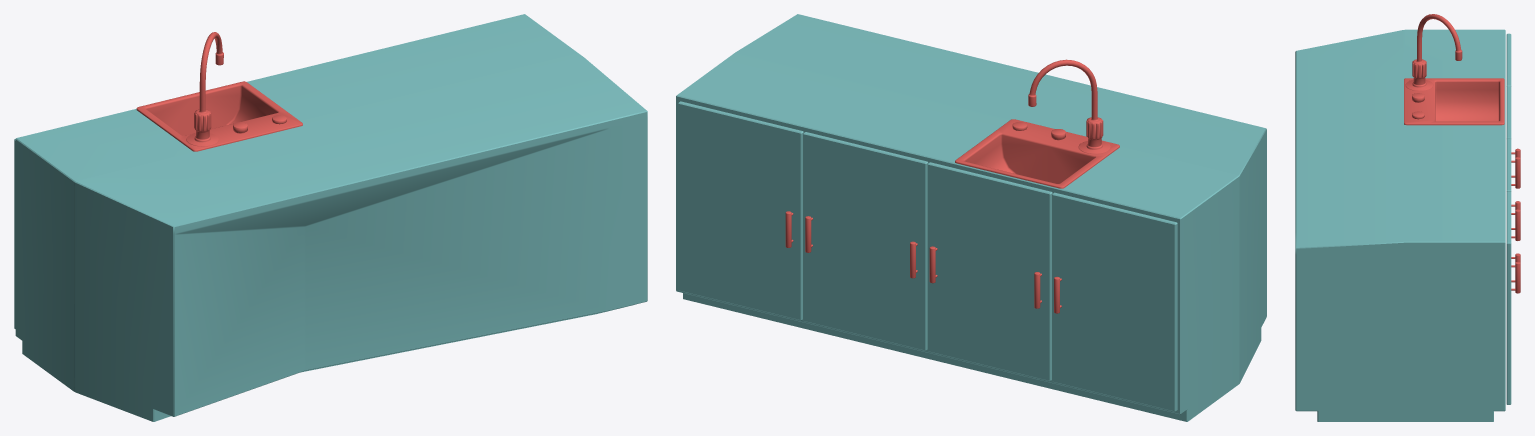
File: House_Cupboard.FBX
The picture shows the model from 3 angles, left to right: view 1: azimuth 30°, elevation 25°; view 2: azimuth 150°, elevation 25°; view 3: azimuth 270°, elevation 25°; orthographic projection. The views are drawn at different scales.
Parts seen in each view (by area): view 1: House_Cupboard_White, House_Cupboard_Metal; view 2: House_Cupboard_White, House_Cupboard_Metal; view 3: House_Cupboard_White, House_Cupboard_Metal.
Boxes of the visible parts, left/top/right/bottom form: House_Cupboard_White: left=14, top=14, right=647, bottom=421; House_Cupboard_Metal: left=136, top=32, right=302, bottom=151; House_Cupboard_White: left=676, top=14, right=1266, bottom=421; House_Cupboard_Metal: left=785, top=59, right=1119, bottom=313; House_Cupboard_White: left=1295, top=29, right=1511, bottom=421; House_Cupboard_Metal: left=1404, top=14, right=1520, bottom=293.
Size of the model in its own units: 229 by 130 by 102.
